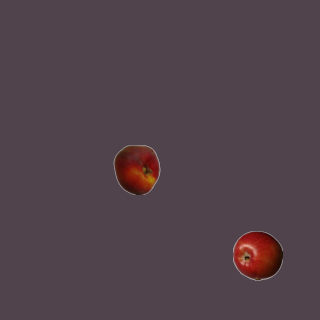Apple Braeburn: (232, 230, 282, 280)
Nectarine Flat: (111, 144, 161, 194)
